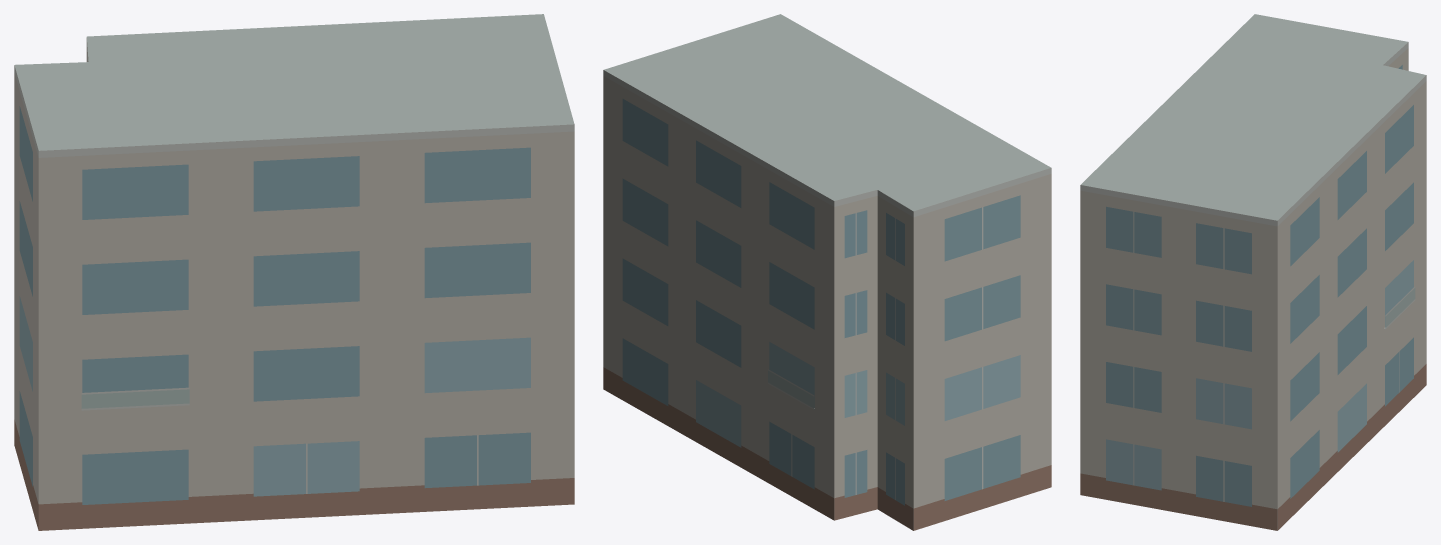
The model's file is survey-upis-32928366.glb.
3 renders of one model, left to right at view 1: azimuth 30°, elevation 25°; view 2: azimuth 150°, elevation 25°; view 3: azimuth 270°, elevation 25°, orthographic. The views are drawn at different scales.
Parts seen in each view (by area): view 1: survey-upis-32928366.tmp; view 2: survey-upis-32928366.tmp; view 3: survey-upis-32928366.tmp.
Part boxes in pixels (x1,y1,x2,y2): survey-upis-32928366.tmp: (14, 14, 574, 530); survey-upis-32928366.tmp: (603, 14, 1051, 530); survey-upis-32928366.tmp: (1080, 14, 1426, 530).
Bounding box in the file's own units: 18.74 × 13.1 × 13.26.
